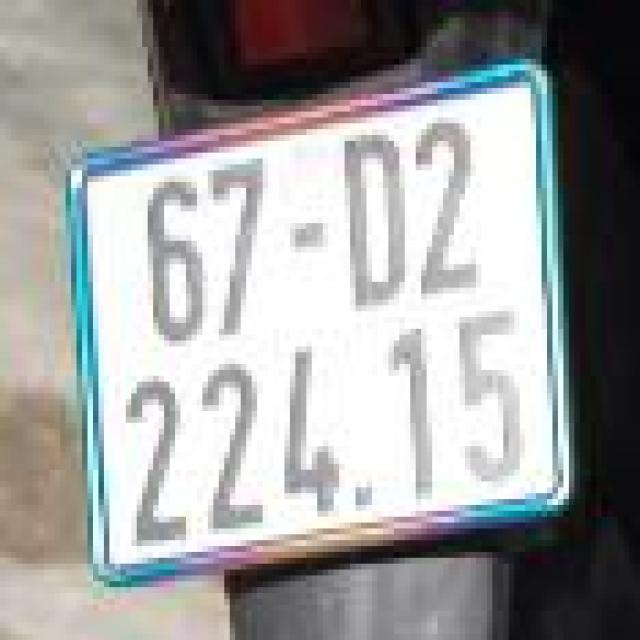1: (380, 323, 440, 505)
2: (186, 361, 273, 537), (410, 117, 487, 306), (118, 376, 194, 540)
4: (279, 340, 350, 522)
5: (449, 308, 525, 491)
6: (137, 173, 208, 344)
7: (202, 158, 274, 352)
D: (334, 129, 410, 317)
